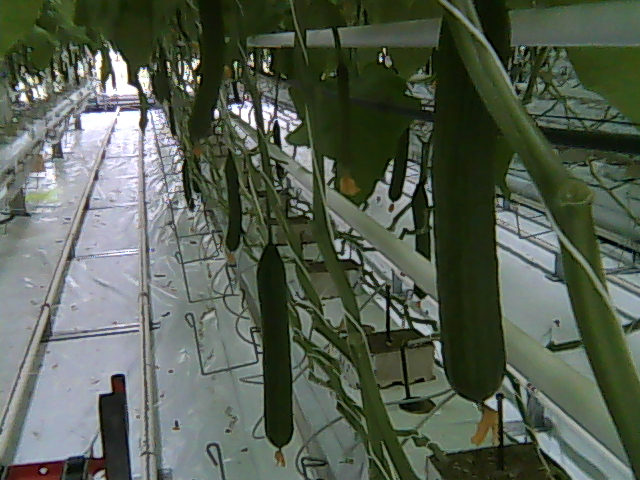concombre: (427, 1, 517, 453), (253, 239, 299, 468)
